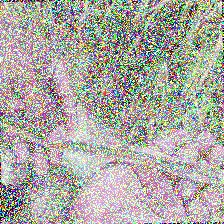Leaf_Blast: (15, 116, 224, 189)
